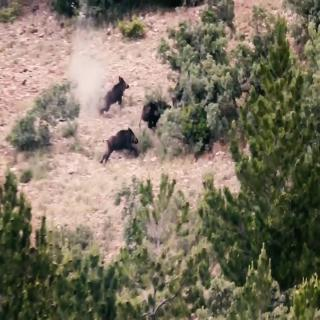Pig: (100, 113, 134, 170)
